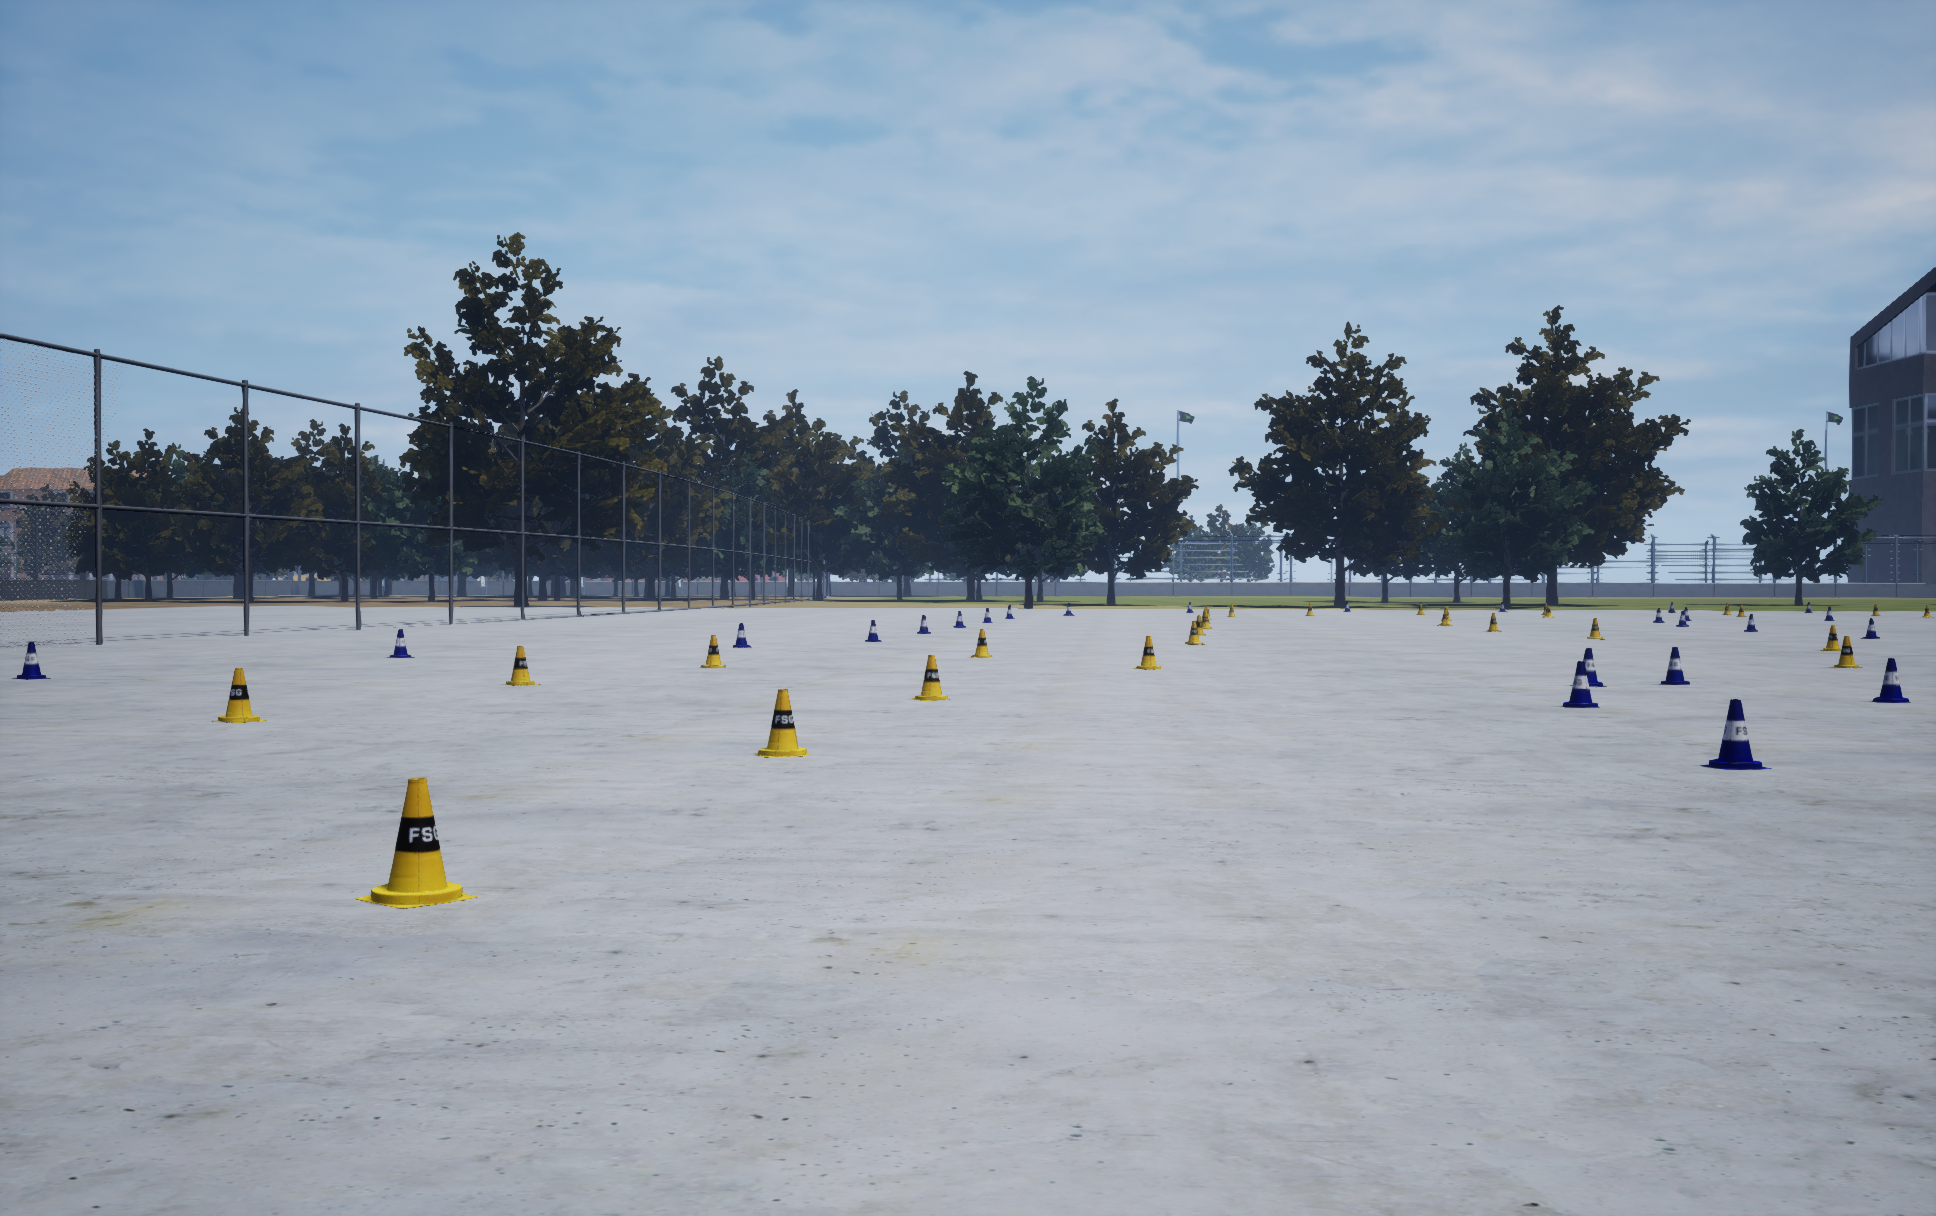blue: (354, 778, 478, 908), (754, 689, 810, 756), (212, 668, 266, 721), (912, 656, 950, 700), (506, 646, 539, 685), (1830, 636, 1862, 667), (1133, 636, 1160, 670), (700, 635, 726, 667), (971, 629, 992, 657), (1820, 625, 1841, 650), (1185, 621, 1203, 644), (1587, 618, 1604, 639)
yellow: (1701, 699, 1771, 769), (1562, 661, 1598, 707), (1872, 658, 1909, 702), (13, 642, 50, 679), (1570, 649, 1605, 686), (1660, 647, 1689, 684), (387, 629, 415, 657), (733, 623, 751, 647), (1860, 618, 1879, 637), (864, 621, 881, 642), (918, 615, 930, 633)
